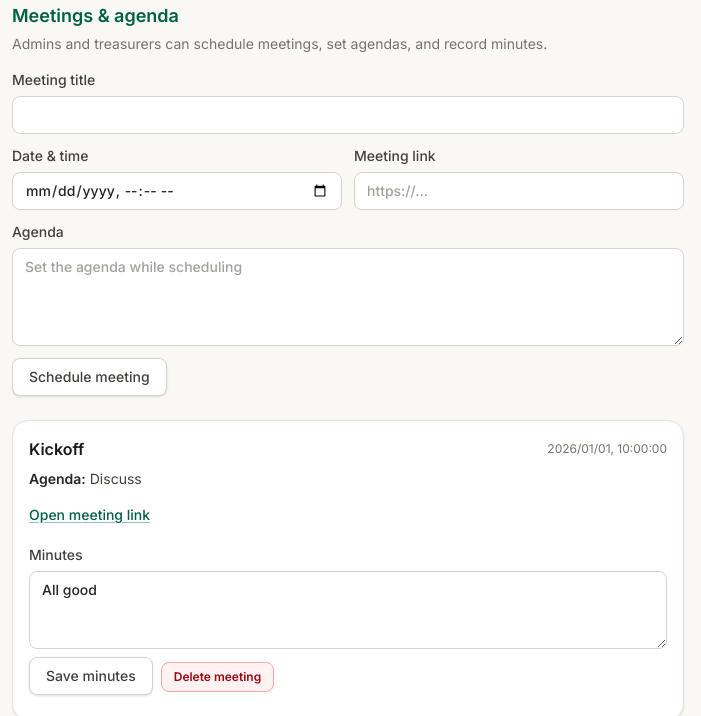
AdminEditStokvel › Meetings › handles save minutes error
The image size is (701, 716).
(page scrolled)
Click the button "Save minutes": [91, 676] box [29, 657, 153, 695]
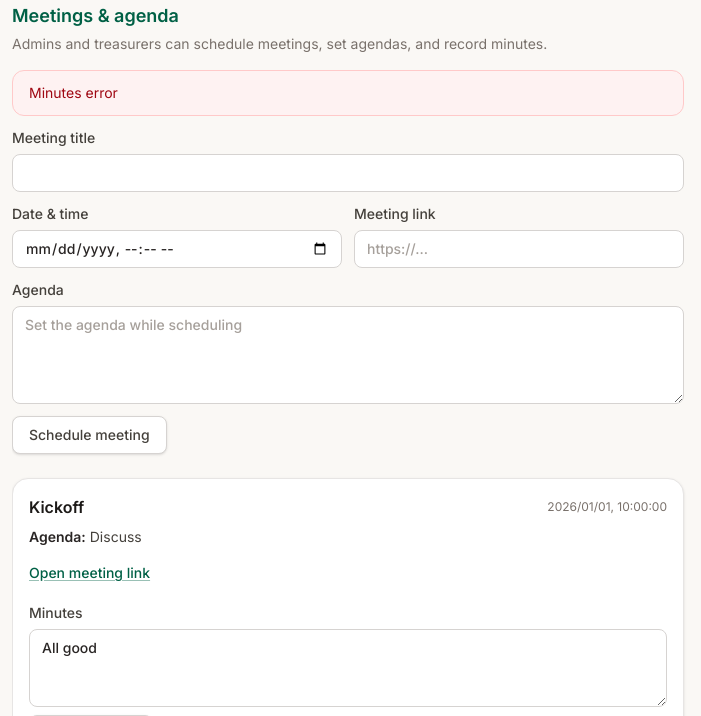
Now the text "Minutes error" is shown, box [12, 70, 684, 116]
